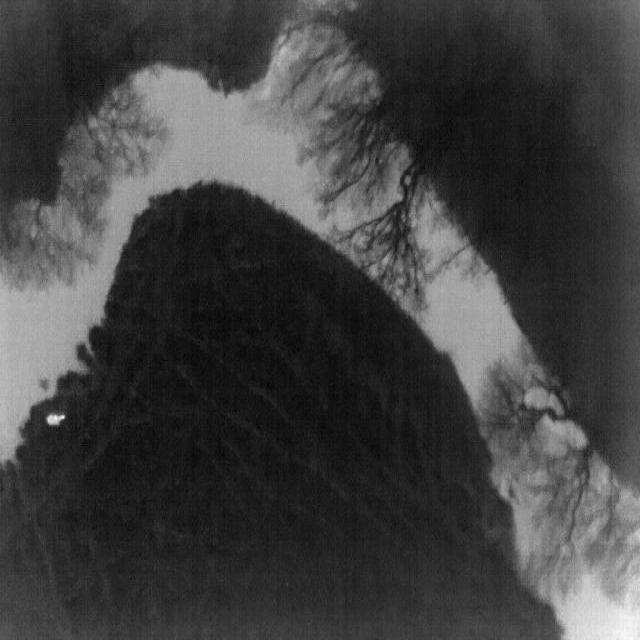deer: (46, 413, 66, 427)
